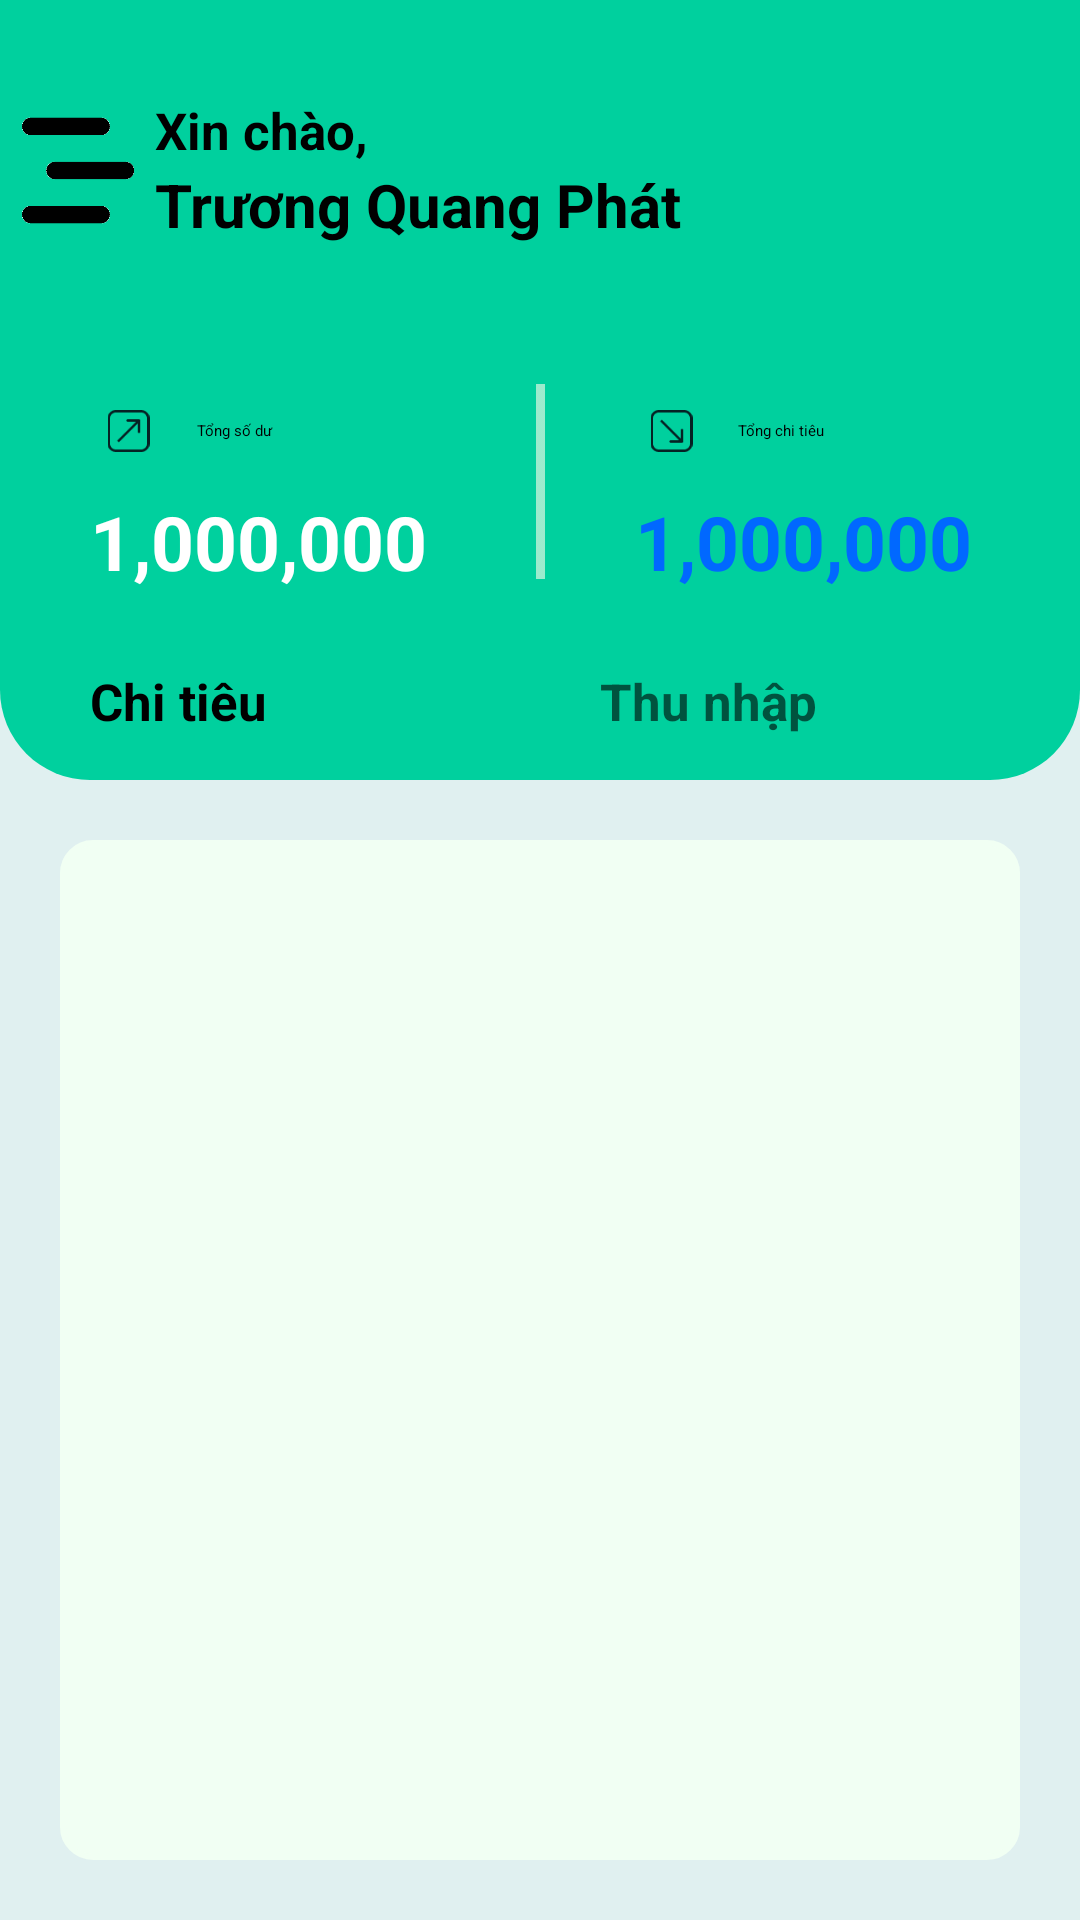

Named icons in this screenshot (1080x1920) and their centers, (x=x, y=y):
expense: (x=672, y=431)
income: (x=129, y=431)
